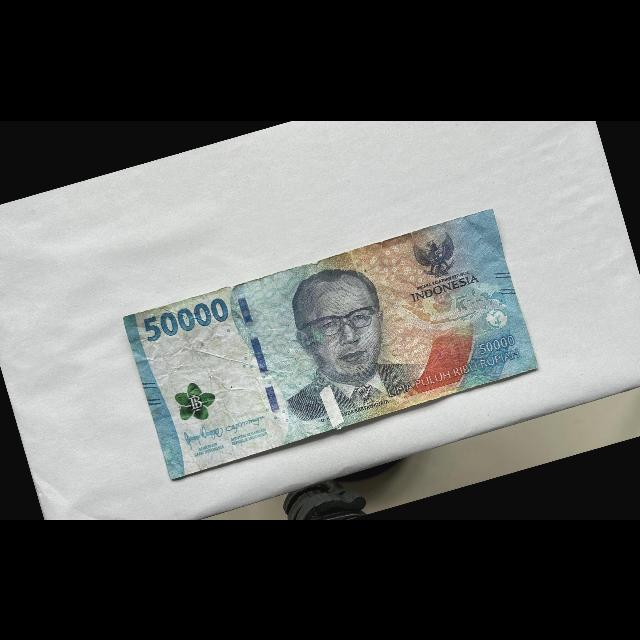Palsu-50k: (116, 200, 543, 484)
Tinta-Palsu-50k: (171, 374, 221, 426)
